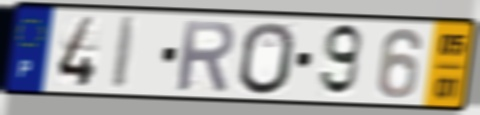4: (53, 14, 98, 90)
6: (375, 26, 424, 101)
9: (315, 21, 366, 100)
I: (109, 14, 141, 93)
O: (237, 20, 298, 98)
R: (175, 17, 237, 94)
